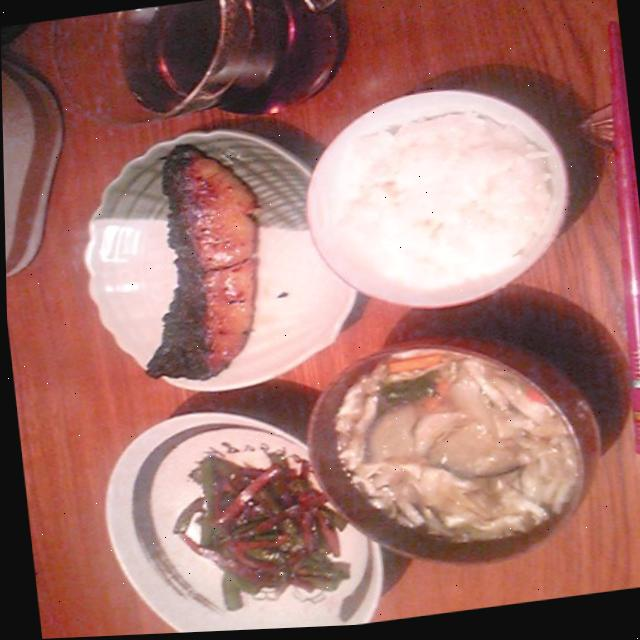汤锅炖物: (279, 317, 640, 611)
米饭主食: (271, 73, 587, 327)
